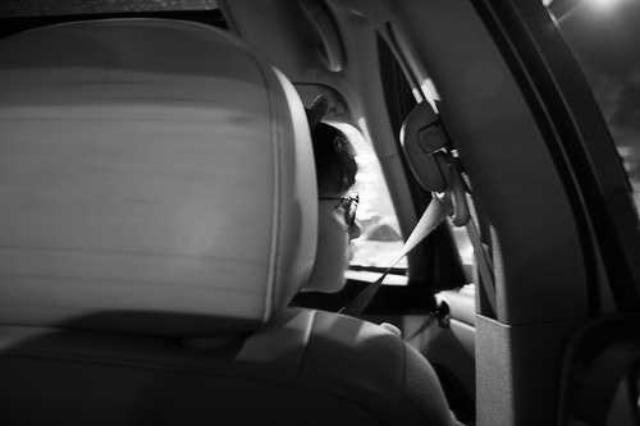Seatbelt: (336, 102, 466, 322)
